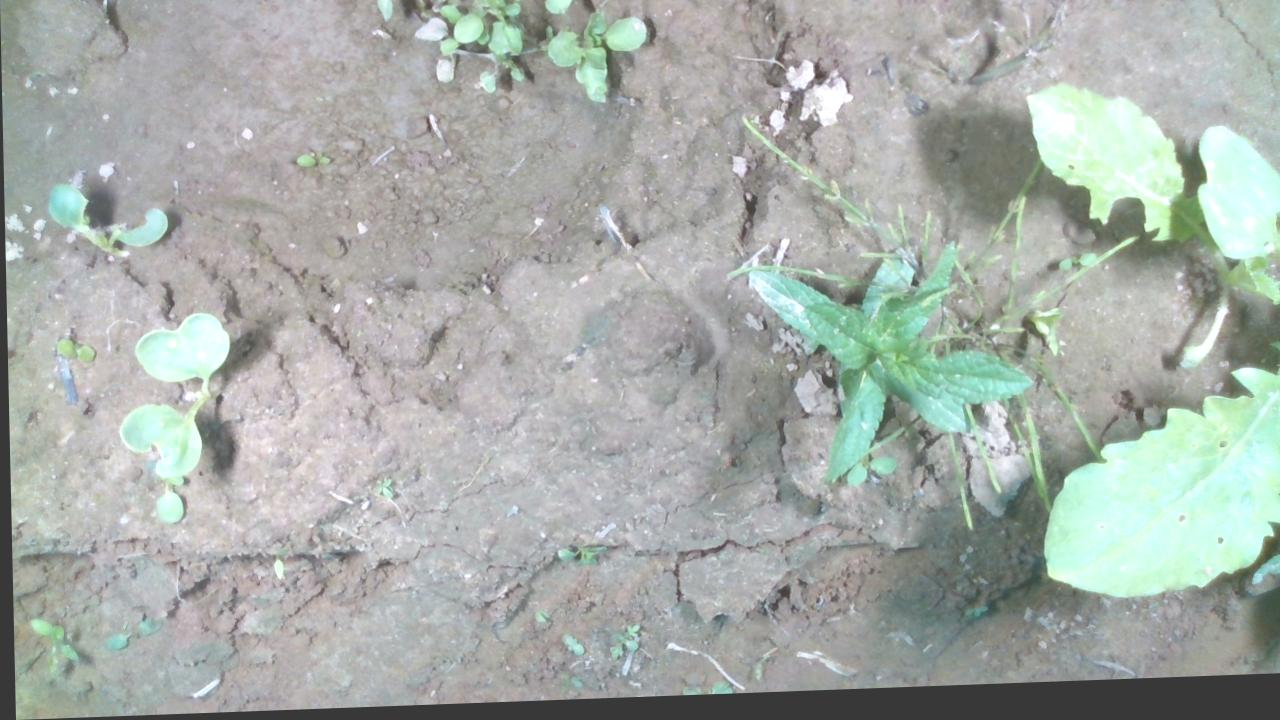weed: (50, 336, 95, 364), (292, 152, 330, 170), (555, 636, 581, 661)
